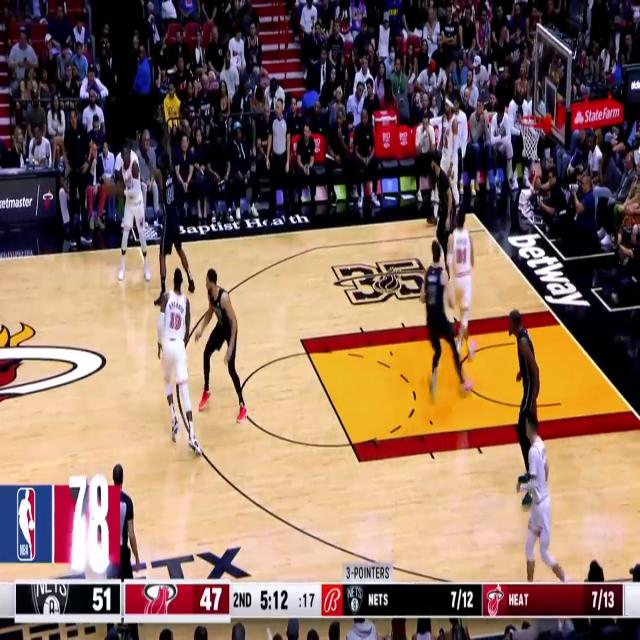Right Bottom Left Paint: (348, 442, 370, 480)
Right Corner: (462, 194, 484, 234)
Right Tick: (130, 226, 149, 269)
Right Top Left Paint: (290, 320, 311, 360)
Right Top Right Paint: (538, 292, 562, 330)
